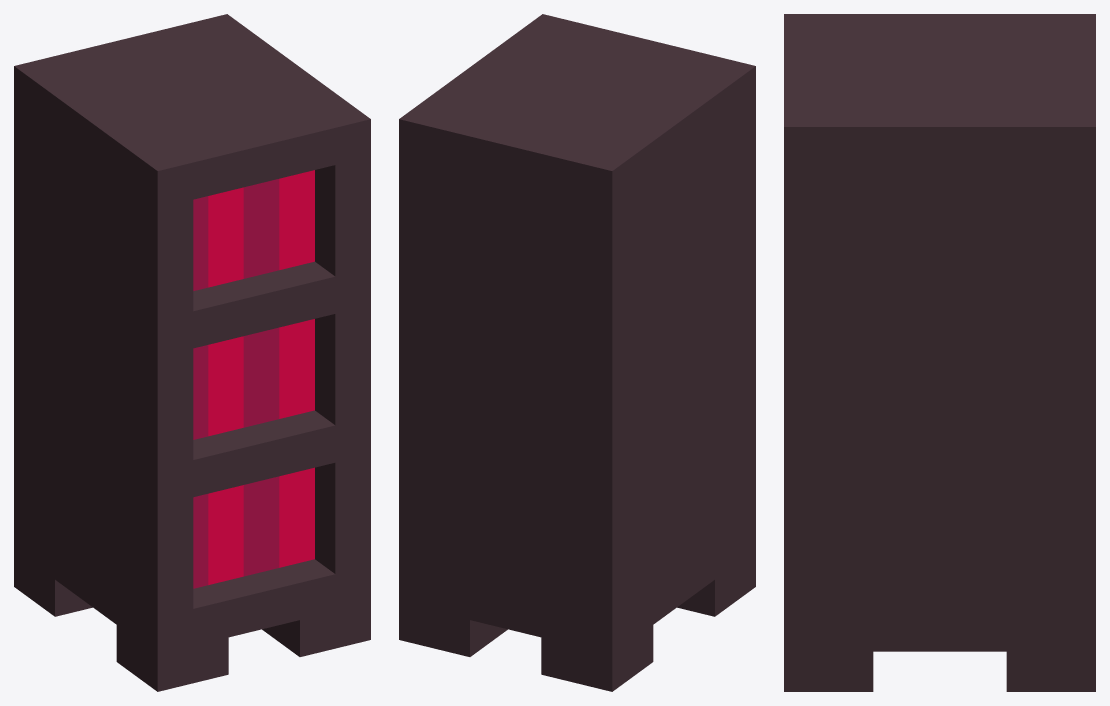
File: small_bookcase_c_red.obj
3 views of the same model, side by side, from view 1: azimuth 30°, elevation 25°; view 2: azimuth 150°, elevation 25°; view 3: azimuth 270°, elevation 25° (orthographic). The views are drawn at different scales.
Size of the model in its own units: 0.6 by 1.4 by 0.7.
Materials: 1 (1 with a texture image).
